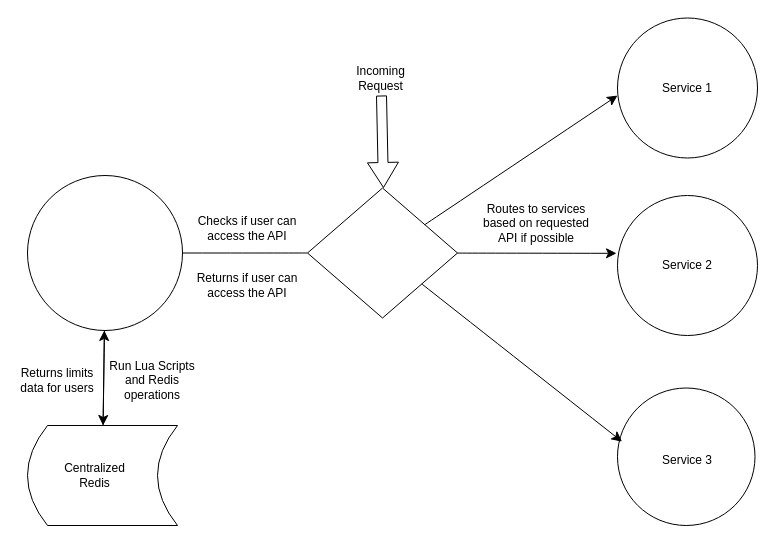
The diagram is 775 pixels wide and 543 high, and some of its shapes have lost their labels. The box of each missing label's shape, as (x1, y1, x2, y2) in pixels:
API Gateway: (306, 187, 458, 318)
Rate Limiting Service: (26, 174, 182, 330)
